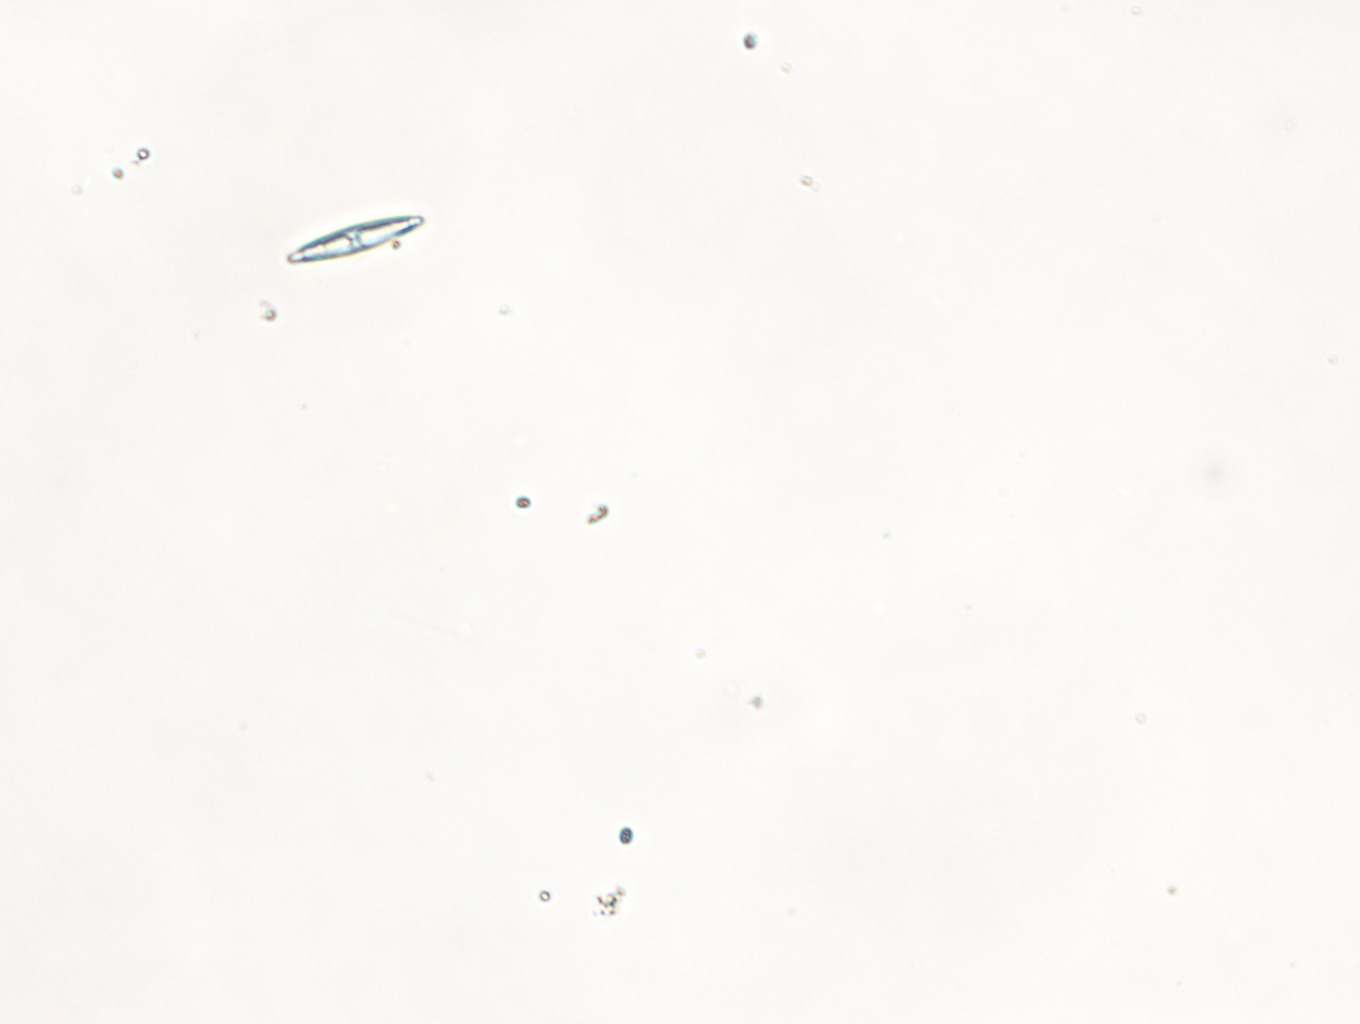navicula: (286, 217, 423, 264)
